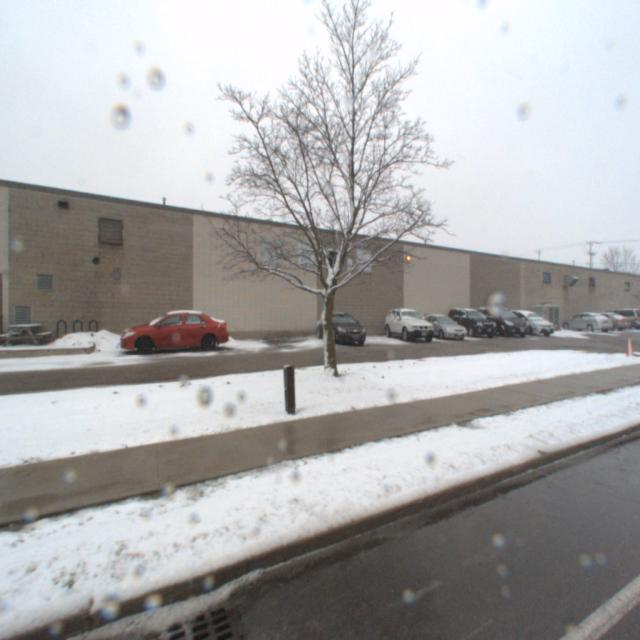Car: (116, 304, 234, 354), (312, 309, 371, 349), (466, 307, 532, 342), (381, 306, 436, 345), (440, 306, 498, 342), (491, 311, 555, 341), (412, 312, 469, 343), (556, 315, 612, 339), (573, 316, 629, 336)
